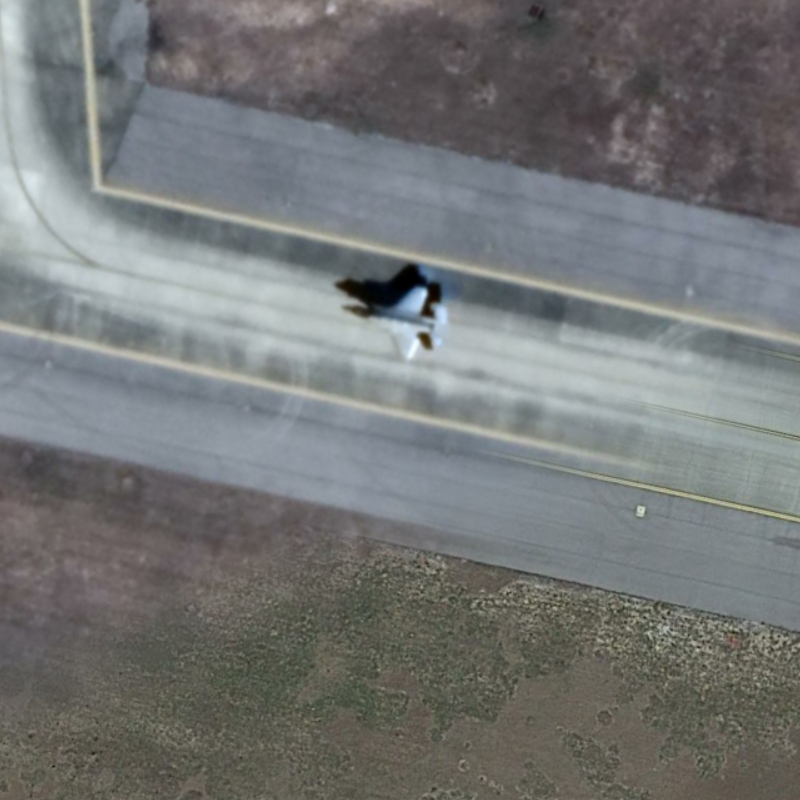A15: (338, 280, 454, 364)
